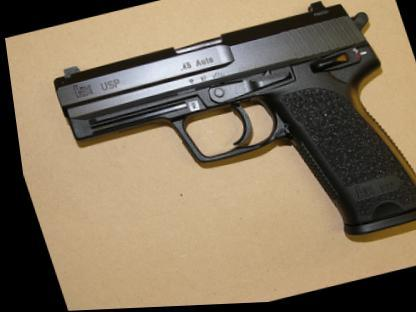pistol: (36, 0, 415, 294)
